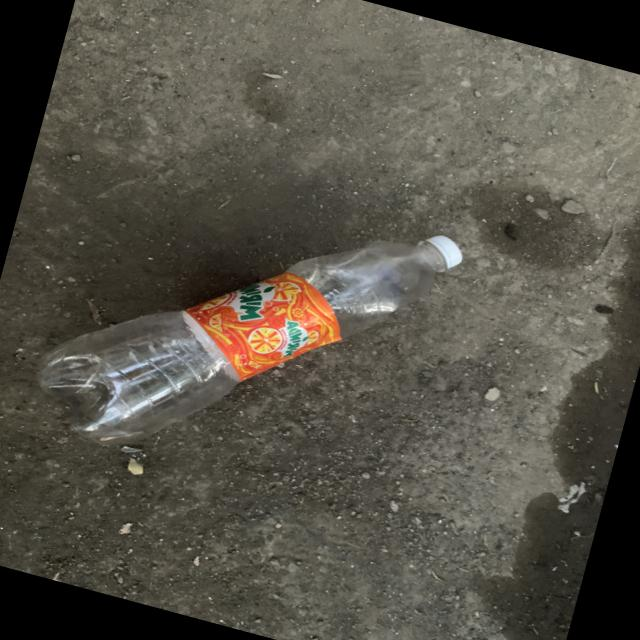Bottle: (39, 235, 462, 442)
